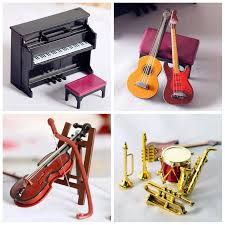Piano: (1, 9, 119, 117)
Violin: (6, 119, 130, 225)
